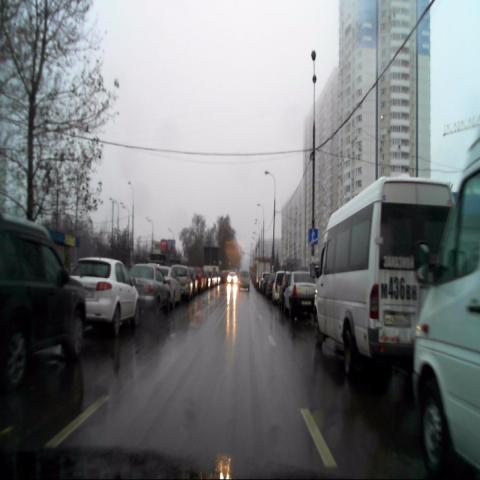6_6: (309, 228, 318, 244)
